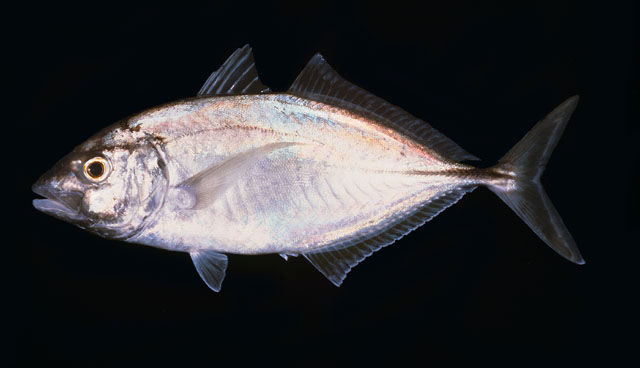fish: (32, 45, 590, 292)
